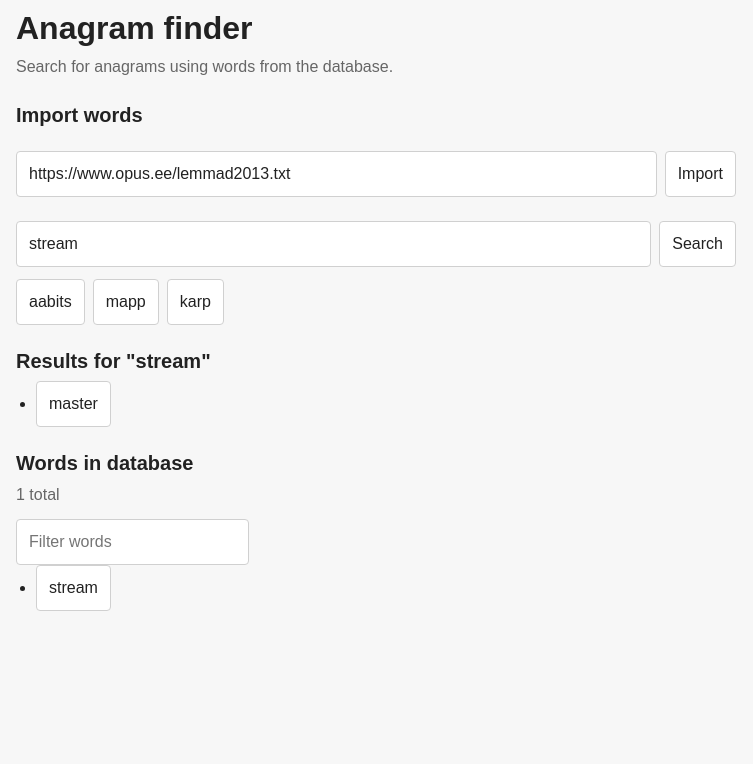
Test case: App › shows the updated words after an import
Expected: the text "1 total" is shown, [16, 486, 60, 503]
What coordinates should you click on to do the following:
click the button "Import"
I would click on:
 (700, 174)
Its box is [665, 151, 736, 197].
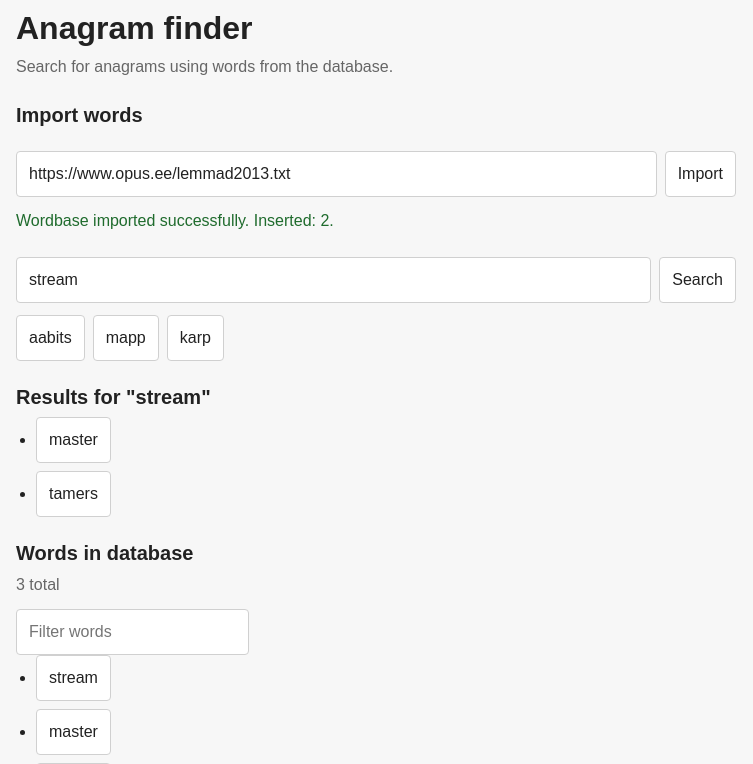
Expected: the text "Wordbase imported successfully. Inserted: 2." is shown, [16, 212, 334, 229]
Expected: the text "3 total" is shown, [16, 576, 60, 593]
Expected: the button "tamers" below "Results for \"" is shown, [36, 471, 111, 517]
